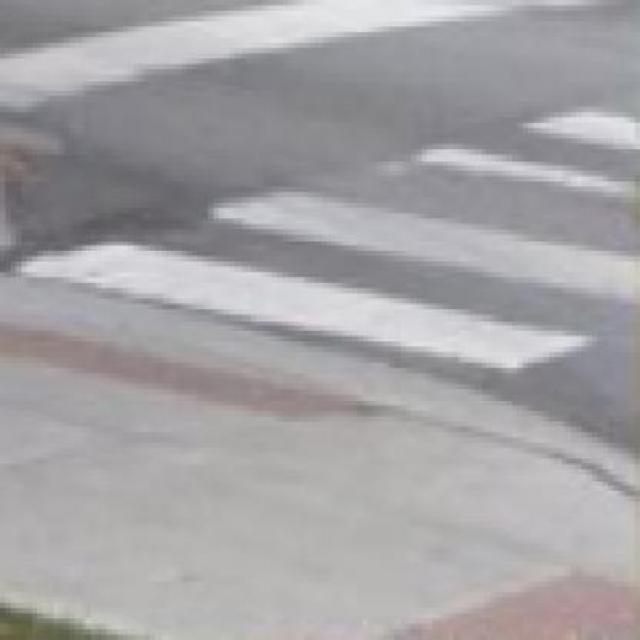crosswalk: (15, 105, 640, 378)
